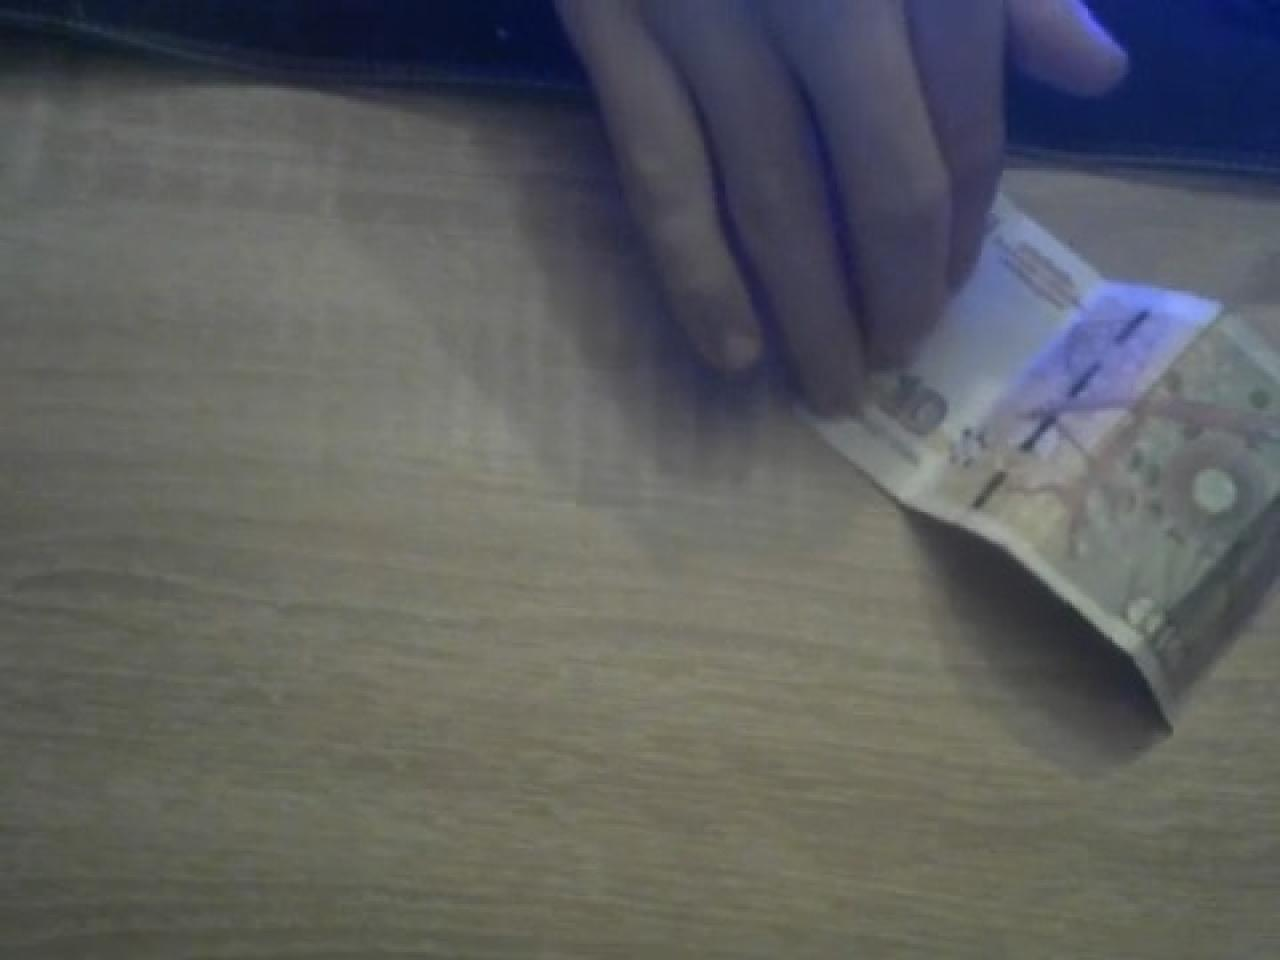10leva: (808, 203, 1280, 733)
